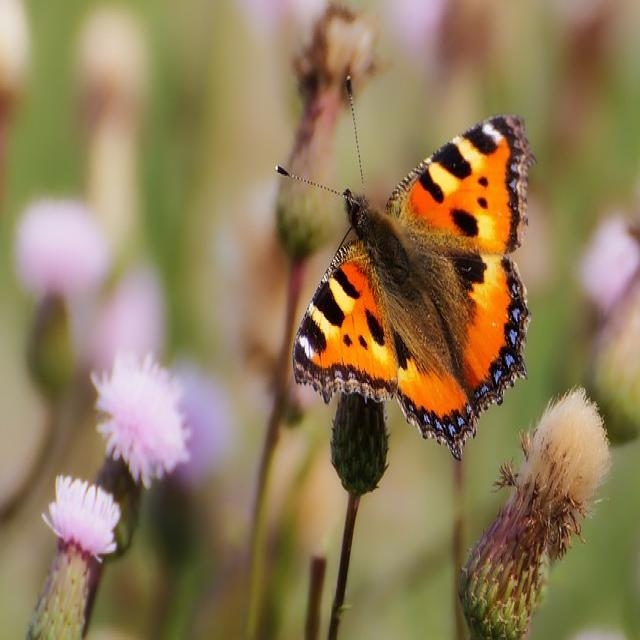butterfly: (294, 116, 532, 458)
